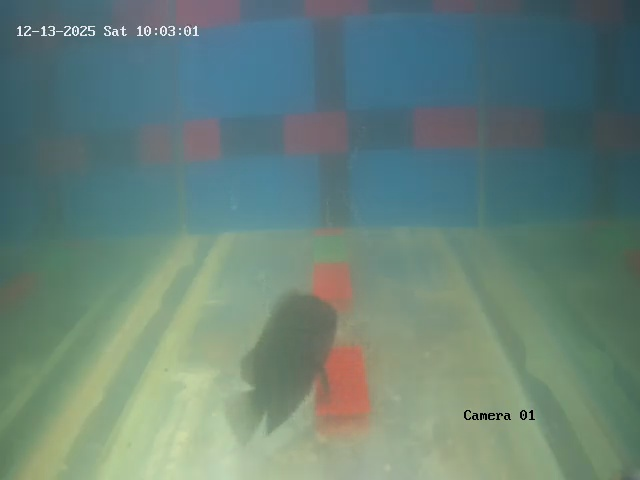fish: (234, 293, 340, 402)
